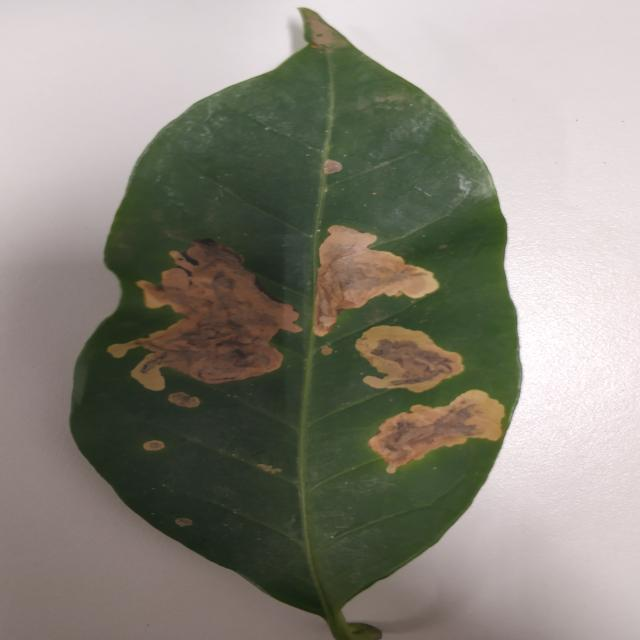Plaga-Minador: (69, 11, 523, 640)
